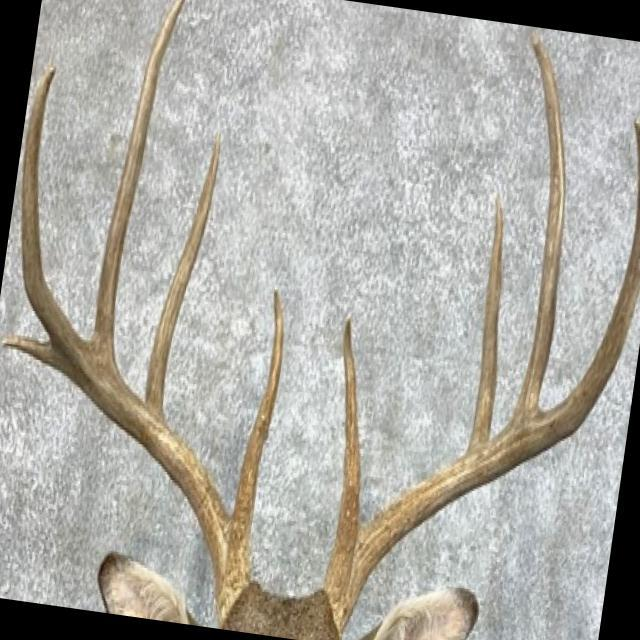L-F: (323, 120, 640, 636)
L-G1: (331, 316, 362, 559)
L-G2: (465, 198, 504, 455)
L-G3: (510, 32, 566, 424)
R-E1: (2, 335, 77, 382)
R-F: (21, 69, 253, 628)
R-G1: (231, 288, 285, 553)
R-G2: (145, 131, 222, 421)
R-G3: (91, 0, 186, 368)
